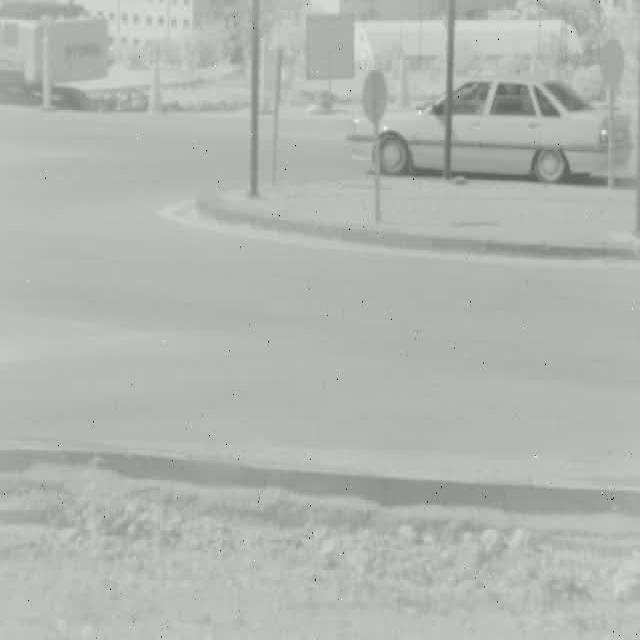Car: (346, 79, 630, 180)
